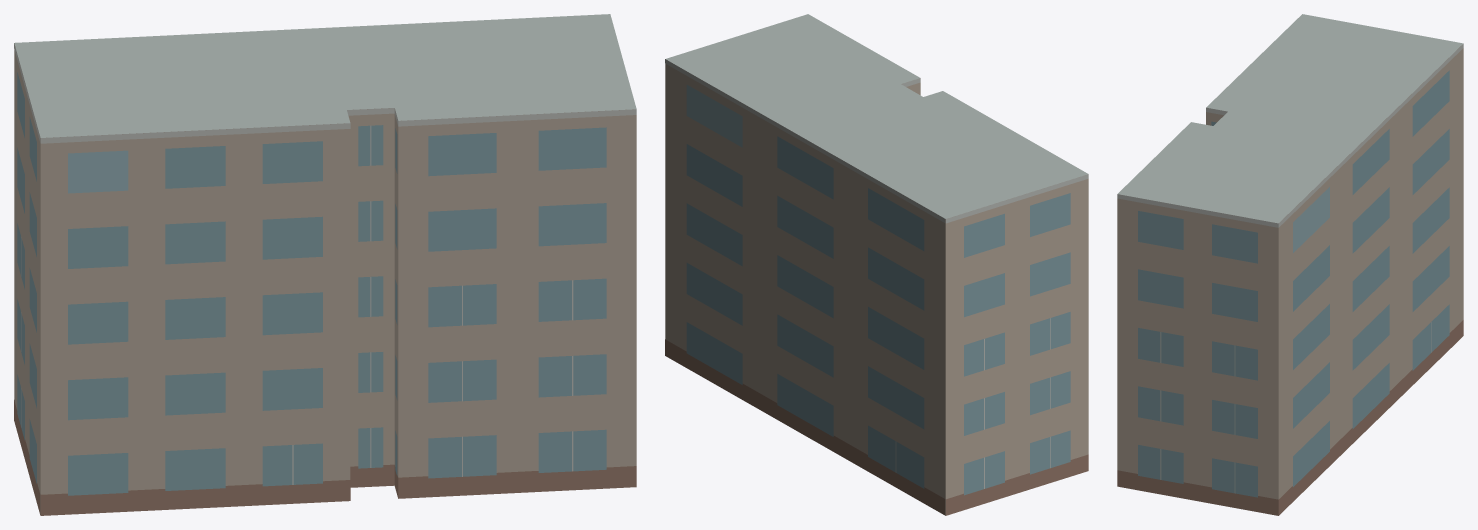
The model's file is survey-upis-32532829.glb.
The picture shows the model from 3 angles, left to right: view 1: azimuth 30°, elevation 25°; view 2: azimuth 150°, elevation 25°; view 3: azimuth 270°, elevation 25°; orthographic projection. The views are drawn at different scales.
Parts seen in each view (by area): view 1: survey-upis-32532829.tmp; view 2: survey-upis-32532829.tmp; view 3: survey-upis-32532829.tmp.
Part boxes in pixels (x1,y1,x2,y2): survey-upis-32532829.tmp: [14, 14, 636, 515]; survey-upis-32532829.tmp: [665, 14, 1088, 515]; survey-upis-32532829.tmp: [1117, 14, 1463, 515].
Size of the model in its own units: 24.73 by 16.1 by 17.28.
